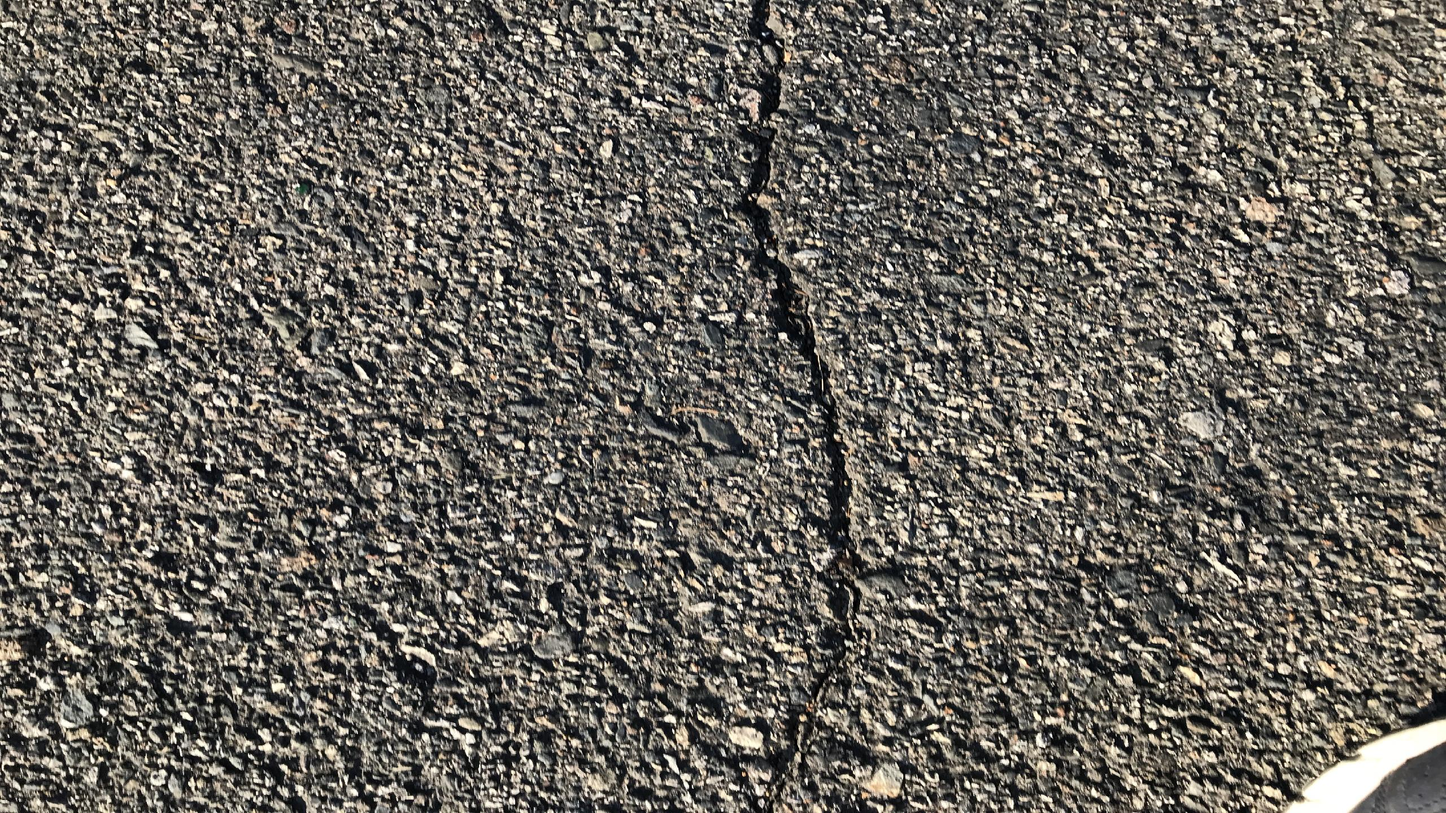crack: (739, 0, 854, 765)
